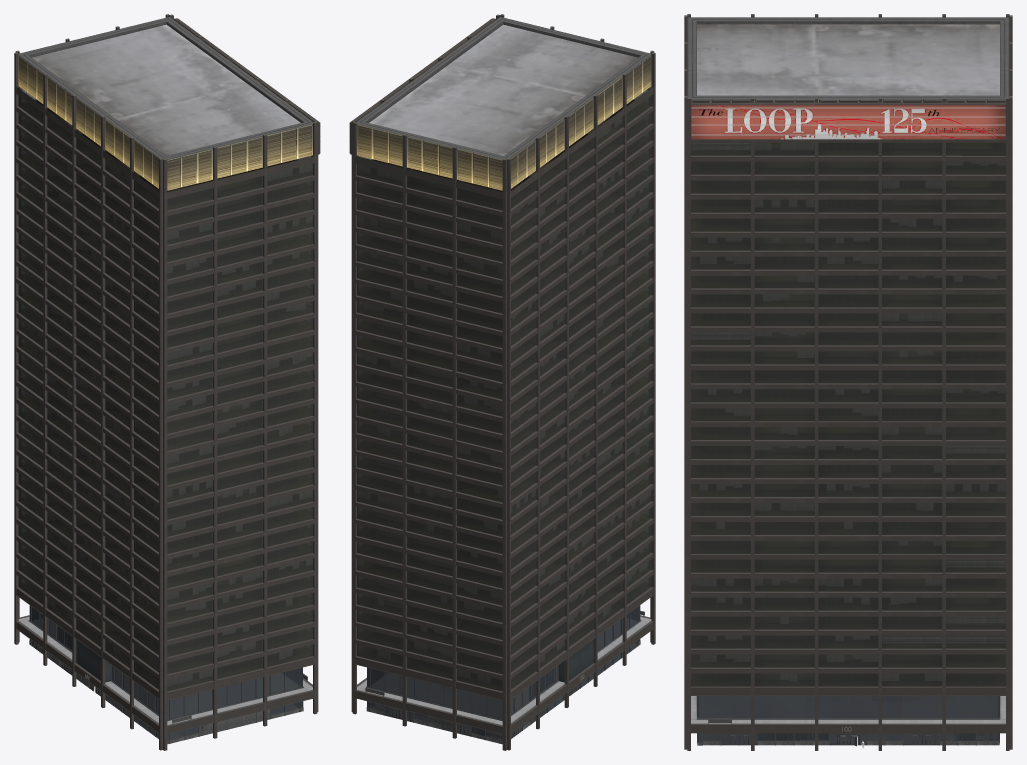
The model's file is building.gltf.
3 renders of one model, left to right at view 1: azimuth 30°, elevation 25°; view 2: azimuth 150°, elevation 25°; view 3: azimuth 270°, elevation 25°, orthographic. The views are drawn at different scales.
Parts seen in each view (by area): view 1: Cube.002, Cube.005, Cube.012, Cube.001, Cube.006, Cube.007, Cube.003; view 2: Cube.002, Cube.005, Cube.012, Cube.001, Cube.006, Cube.007, Cube.003; view 3: Cube.005, Cube.002, Cube.012, Cube.001, Cube.004, Cube.007, Cube.003, Cube.006.
Part boxes in pixels (bbox=[...]): Cube.002: bbox=[14, 14, 320, 750]; Cube.005: bbox=[18, 90, 312, 690]; Cube.012: bbox=[19, 96, 311, 690]; Cube.001: bbox=[18, 90, 312, 691]; Cube.006: bbox=[18, 55, 312, 190]; Cube.007: bbox=[29, 605, 303, 740]; Cube.003: bbox=[19, 114, 311, 685]; Cube.002: bbox=[349, 14, 655, 750]; Cube.005: bbox=[357, 90, 651, 690]; Cube.012: bbox=[358, 96, 650, 690]; Cube.001: bbox=[357, 90, 651, 691]; Cube.006: bbox=[357, 55, 651, 190]; Cube.007: bbox=[367, 605, 640, 740]; Cube.003: bbox=[358, 118, 650, 682]; Cube.005: bbox=[691, 142, 1005, 685]; Cube.002: bbox=[684, 14, 1012, 750]; Cube.012: bbox=[691, 143, 1005, 685]; Cube.001: bbox=[691, 143, 1005, 686]; Cube.004: bbox=[691, 105, 1005, 139]; Cube.007: bbox=[697, 696, 999, 744]; Cube.003: bbox=[692, 143, 1004, 680]; Cube.006: bbox=[691, 99, 1005, 102].
Bounding box in the file's own units: 60.83 × 212 × 96.85.
